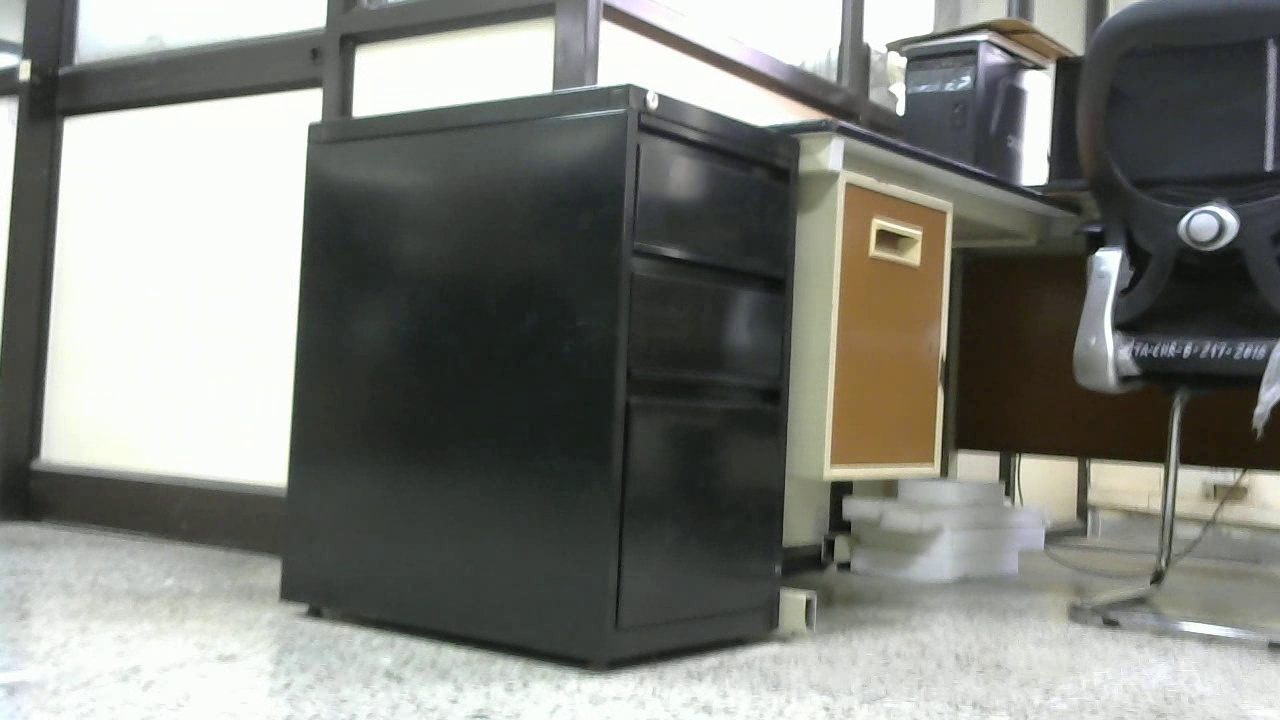chair: (1062, 2, 1280, 650)
